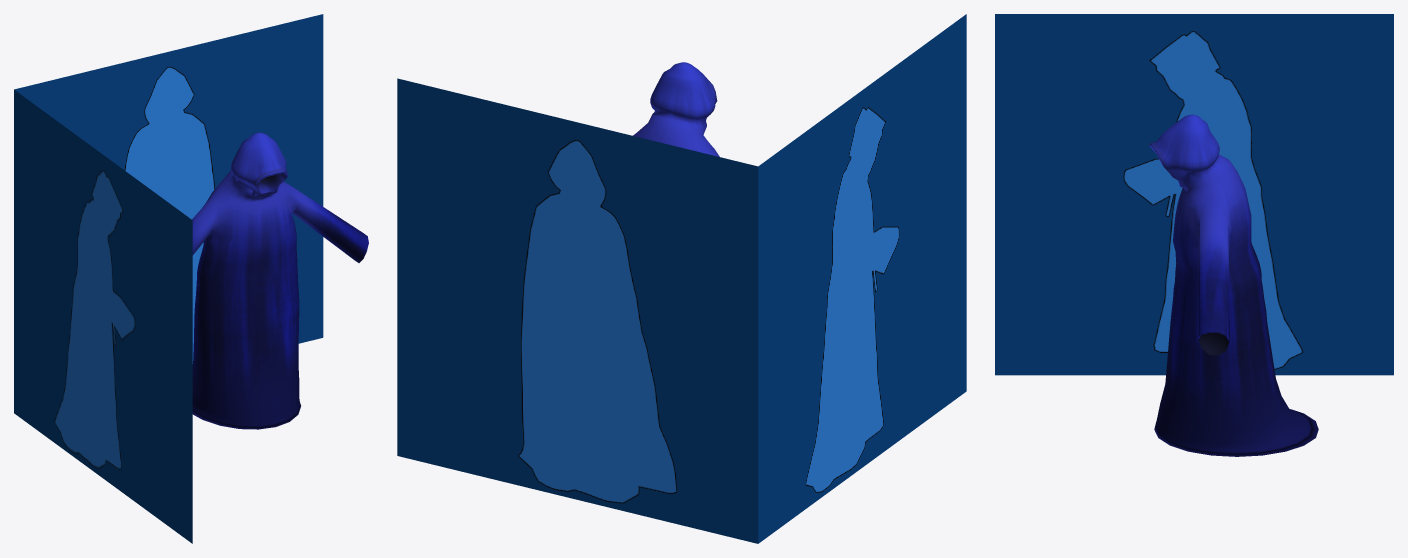
Rendered from character.fbx.
The picture shows the model from 3 angles, left to right: view 1: azimuth 30°, elevation 25°; view 2: azimuth 150°, elevation 25°; view 3: azimuth 270°, elevation 25°; orthographic projection. The views are drawn at different scales.
Visible parts, largest first — view 1: pPlane1, pPlane2, Figure; view 2: pPlane2, pPlane1, Figure; view 3: pPlane1, Figure.
Boxes of the visible parts, x1,y1,x2,y2 form: pPlane1: (14, 90, 192, 543); pPlane2: (14, 14, 323, 364); Figure: (192, 132, 368, 429); pPlane2: (397, 78, 758, 543); pPlane1: (758, 14, 966, 543); Figure: (633, 62, 719, 156); pPlane1: (995, 14, 1393, 375); Figure: (1149, 114, 1318, 456).
Bounding box in the file's own units: 24 × 24 × 24.
